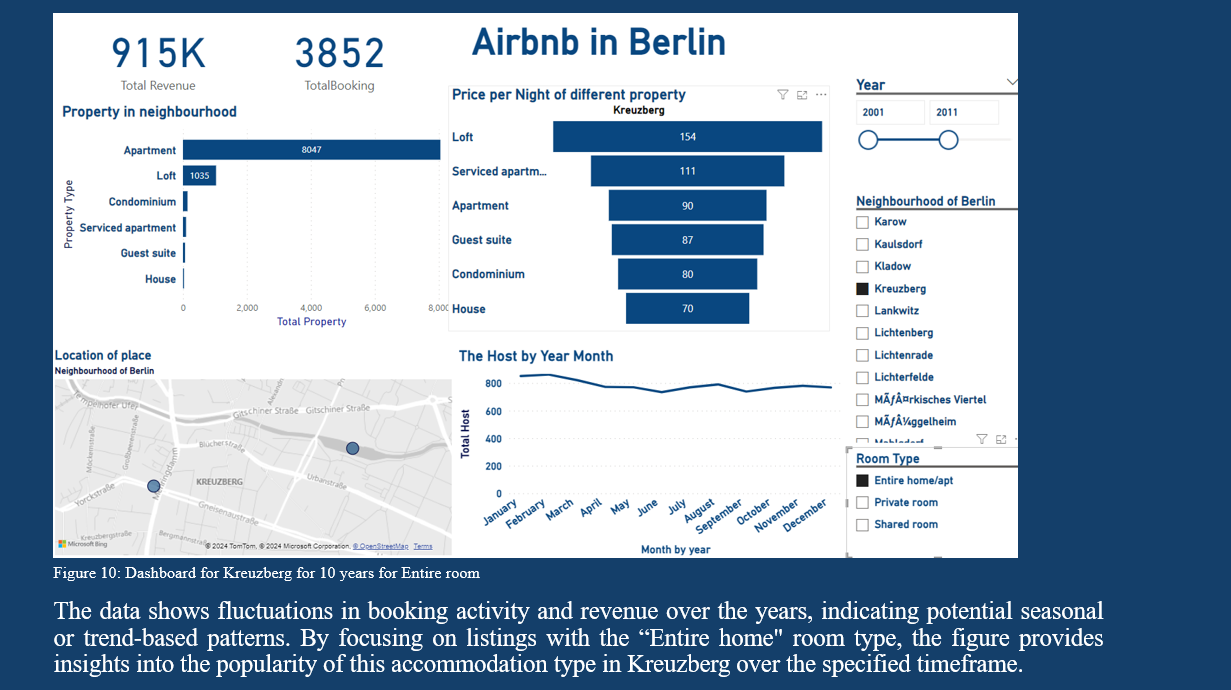

This screenshot's page, from the dashboard's own definition file:
{"tool":"powerbi","page":{"name":"Airbnb","canvas":[1280,720],"ordinal":0},"visuals":[{"type":"slicer","fields":{"Values":["modified_dataset.neighbourhood"]},"box":[1041.5,237.4,238.8,336.2],"z":0},{"type":"slicer","fields":{"Values":["modified_dataset.room type"]},"box":[1041.5,573.6,238.8,146.8],"z":1000},{"type":"clusteredBarChart","title":"Property in neighbourhood","fields":{"Category":["modified_dataset.property type"],"Y":["CountNonNull(modified_dataset.neighbourhood)"]},"box":[9.6,123.5,520.1,299.1],"z":2000},{"type":"funnel","title":"Average price per Night of different property (Euro)","fields":{"Category":["modified_dataset.property type"],"Y":["Avg(modified_dataset.price)"]},"box":[520.1,101.5,499.5,321.1],"z":3000},{"type":"map","title":"Location of place","fields":{"Category":["modified_dataset.city"],"Series":["modified_dataset.neighbourhood"],"X":["Avg(modified_dataset.longitude)"],"Y":["Avg(modified_dataset.latitude)"]},"box":[0,443.2,529.7,277.2],"z":4000},{"type":"lineChart","title":"The Host by Year Month","fields":{"Y":["CountNonNull(modified_dataset.host name)"],"Category":["modified_dataset.review_date.Variation.Date Hierarchy.Month"]},"box":[529.7,443.2,511.8,277.2],"z":5000},{"type":"slicer","fields":{"Values":["modified_dataset.review_date.Variation.Date Hierarchy.Year"]},"box":[1041.5,83.7,238.8,153.7],"z":6000},{"type":"card","fields":{"Values":["modified_dataset.TotalRevenue"]},"box":[9.6,0,260.7,123.5],"z":7000},{"type":"textbox","box":[546.1,9.6,447.3,79.6],"z":8000},{"type":"card","fields":{"Values":["modified_dataset.TotalBooking"]},"box":[258,0,240.1,123.5],"z":9000}]}

Visuals, with their boxes in screenshot pixels (x1, y1, x2, y2), scaled from the page's 1280x720 canvas onto the 1231x690 screenshot:
slicer - modified_dataset.neighbourhood: (left=1002, top=228, right=1230, bottom=550)
slicer - modified_dataset.room type: (left=1002, top=550, right=1230, bottom=689)
"Property in neighbourhood" clusteredBarChart: (left=9, top=118, right=509, bottom=405)
"Average price per Night of different property (Euro)" funnel: (left=500, top=97, right=981, bottom=405)
"Location of place" map: (left=0, top=425, right=509, bottom=689)
"The Host by Year Month" lineChart: (left=509, top=425, right=1002, bottom=689)
slicer - modified_dataset.review_date.Variation.Date Hierarchy.Year: (left=1002, top=80, right=1230, bottom=228)
card - modified_dataset.TotalRevenue: (left=9, top=0, right=260, bottom=118)
textbox: (left=525, top=9, right=955, bottom=85)
card - modified_dataset.TotalBooking: (left=248, top=0, right=479, bottom=118)
